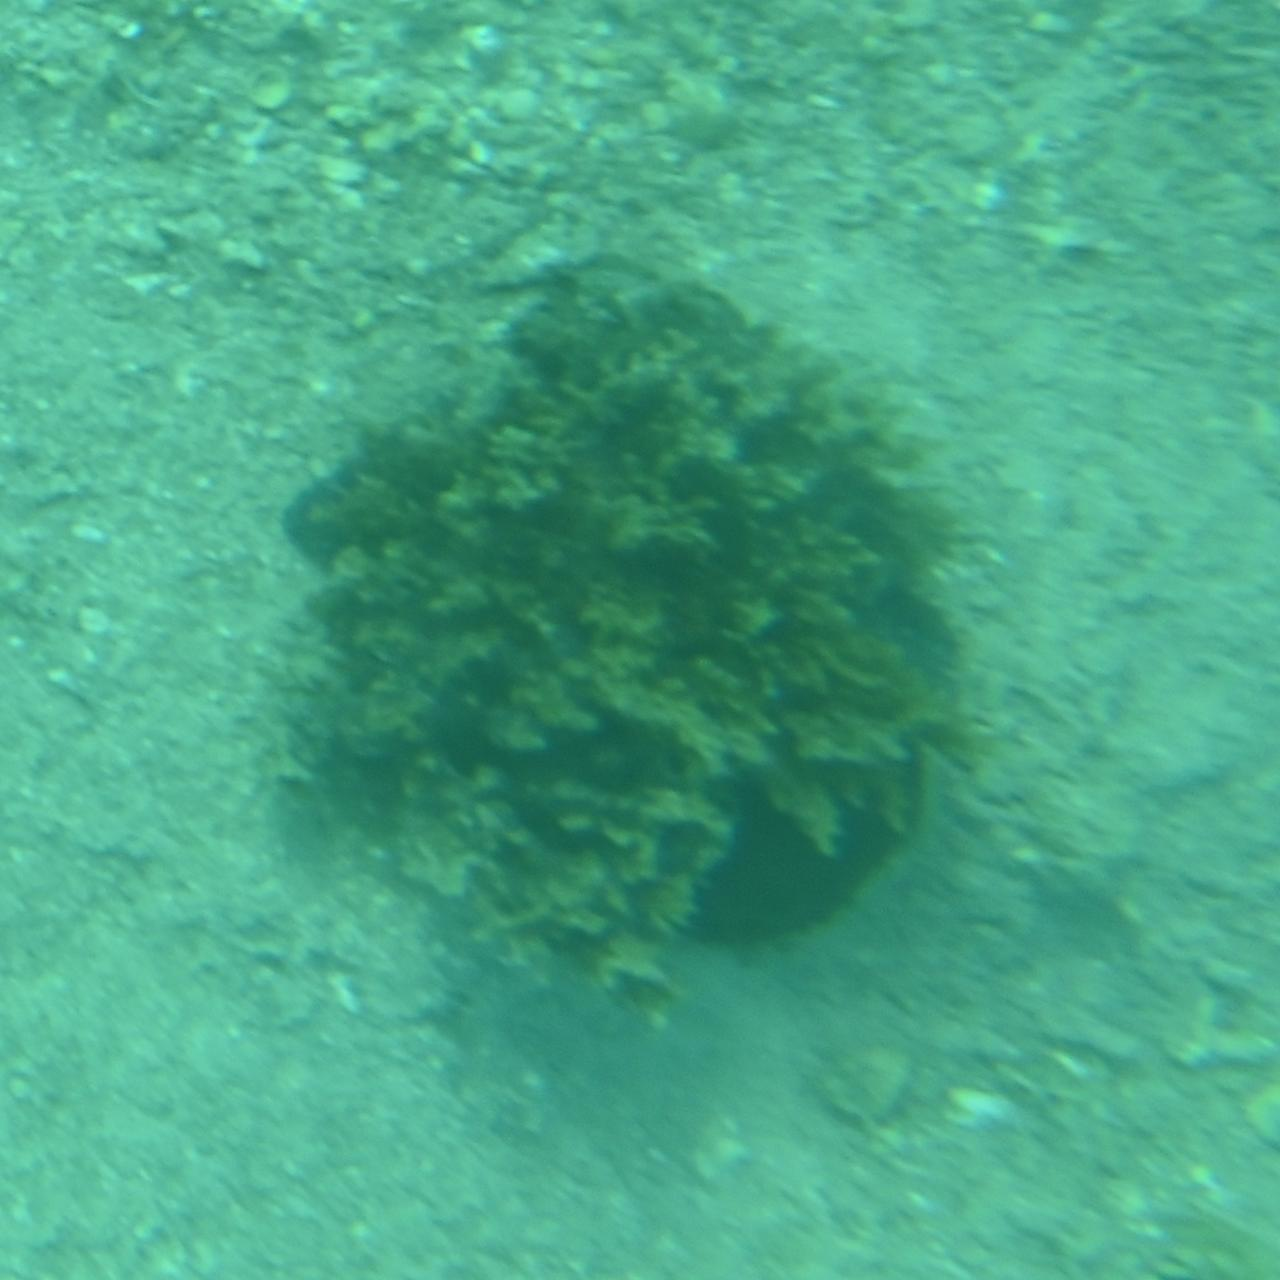Phaeophyceae -cfr Cystoseira-: (263, 247, 1017, 1033)
